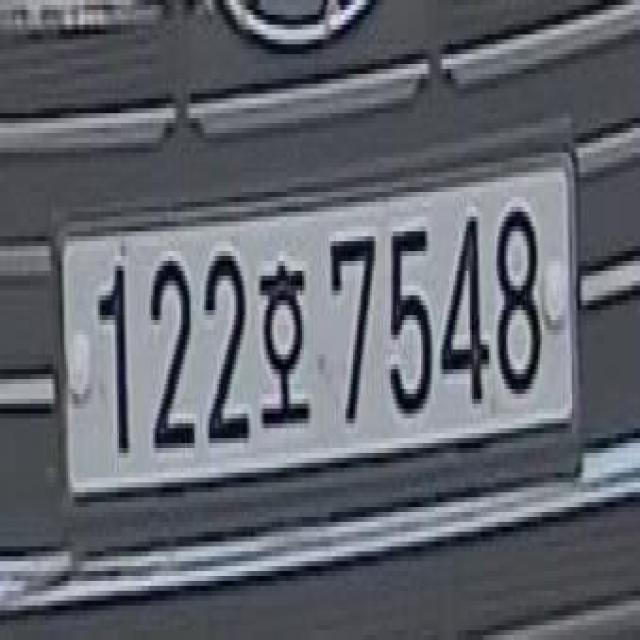illegal_plate: (57, 157, 583, 510)
